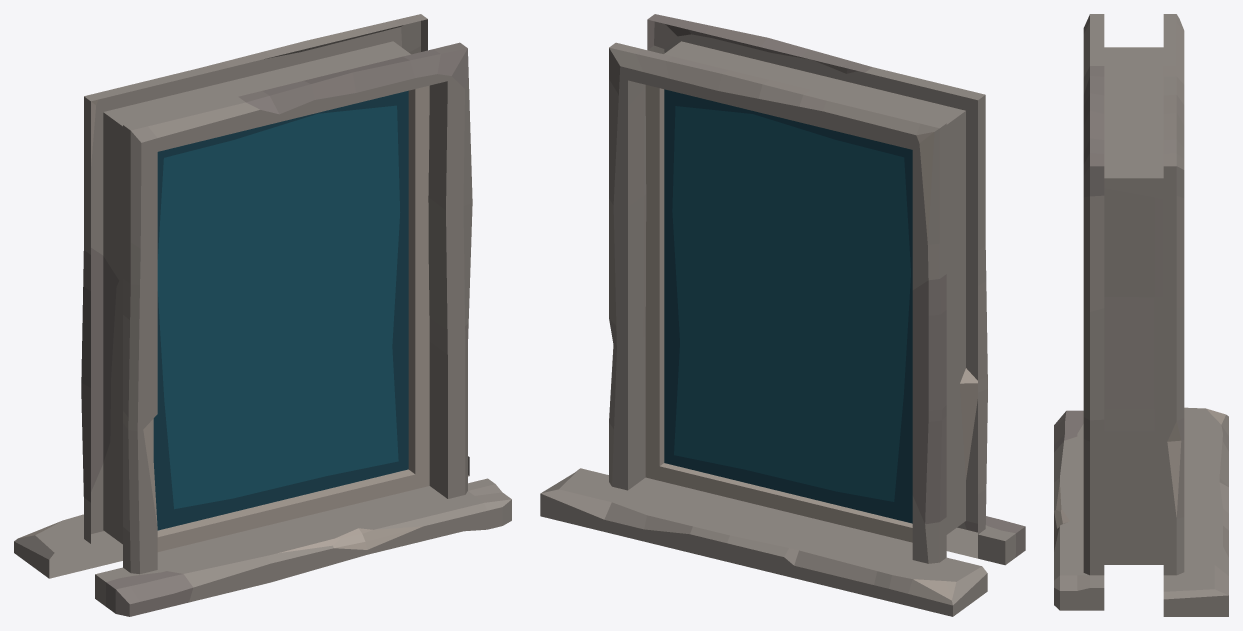
Rendered from SM_Window_C.fbx.
The picture shows the model from 3 angles, left to right: view 1: azimuth 30°, elevation 25°; view 2: azimuth 150°, elevation 25°; view 3: azimuth 270°, elevation 25°; orthographic projection. The views are drawn at different scales.
Parts seen in each view (by area): view 1: SM_Window_C; view 2: SM_Window_C; view 3: SM_Window_C.
Part boxes in pixels (x1,y1,x2,y2): SM_Window_C: (14,14,511,616); SM_Window_C: (540,14,1025,616); SM_Window_C: (1054,14,1228,616).
Size of the model in its own units: 152 by 162 by 59.
